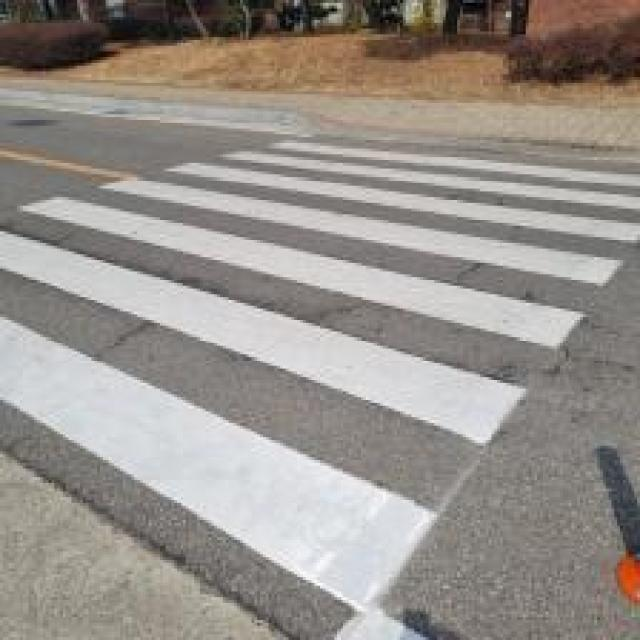walk-crossing: (22, 123, 627, 580)
